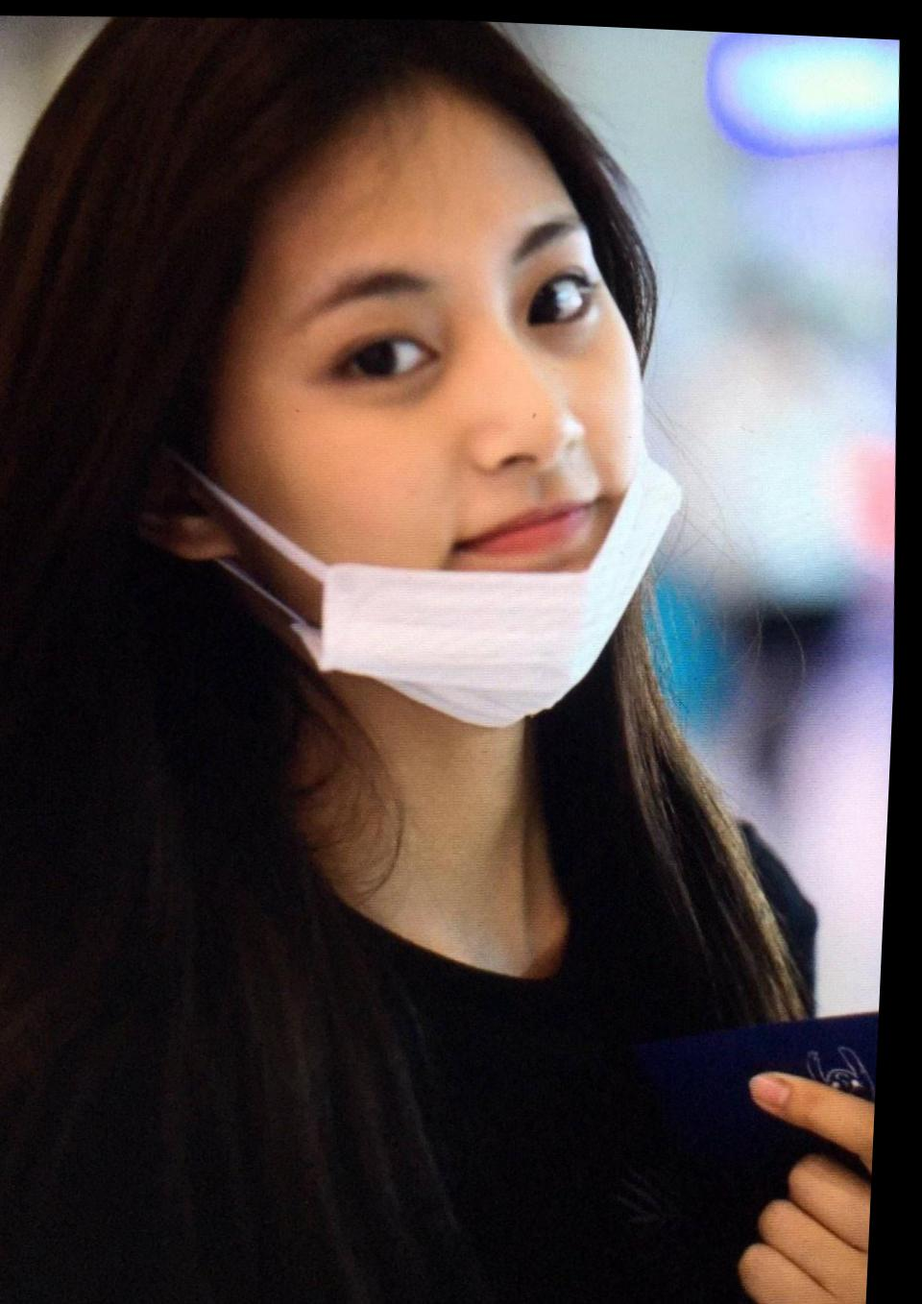WRONG: (213, 154, 675, 721)
